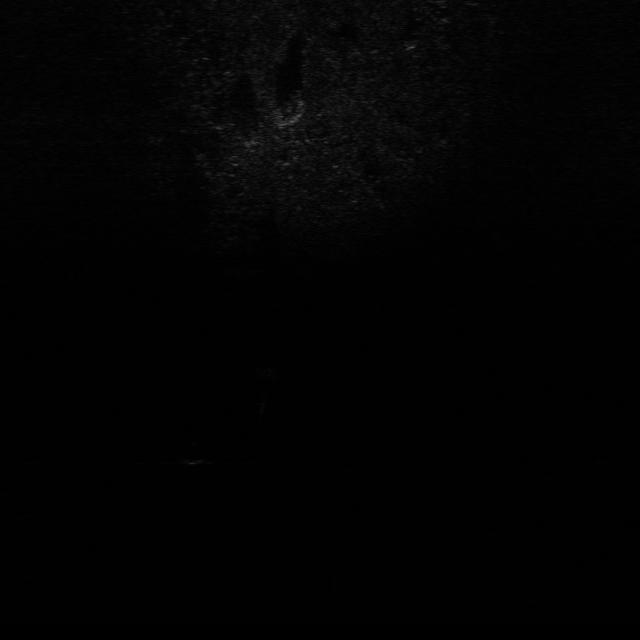ball: (180, 438, 216, 465)
cube: (247, 361, 279, 384)
